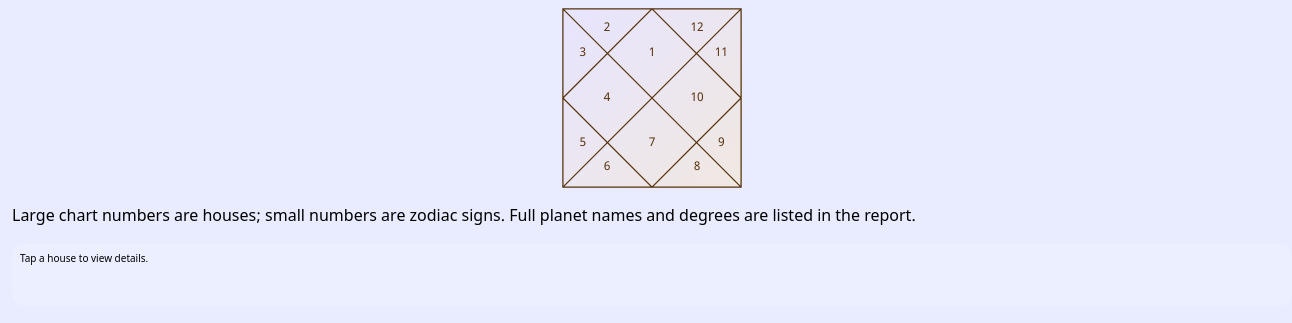
Test: shows pending calculation after selecting a house without a chart
Click the button named "House 3" at (583, 53), box [566,36,600,70]
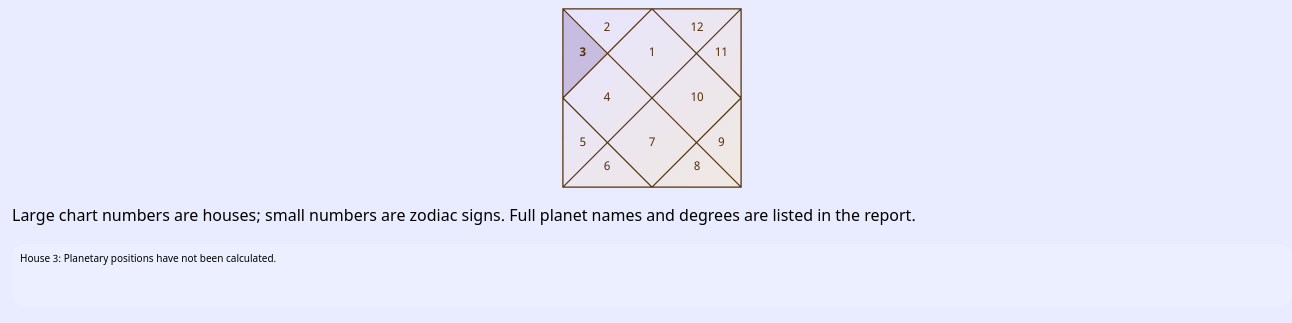
Result: the text "House 3: Planetary positions have not been calculated." is shown at [12,244,1291,306]
